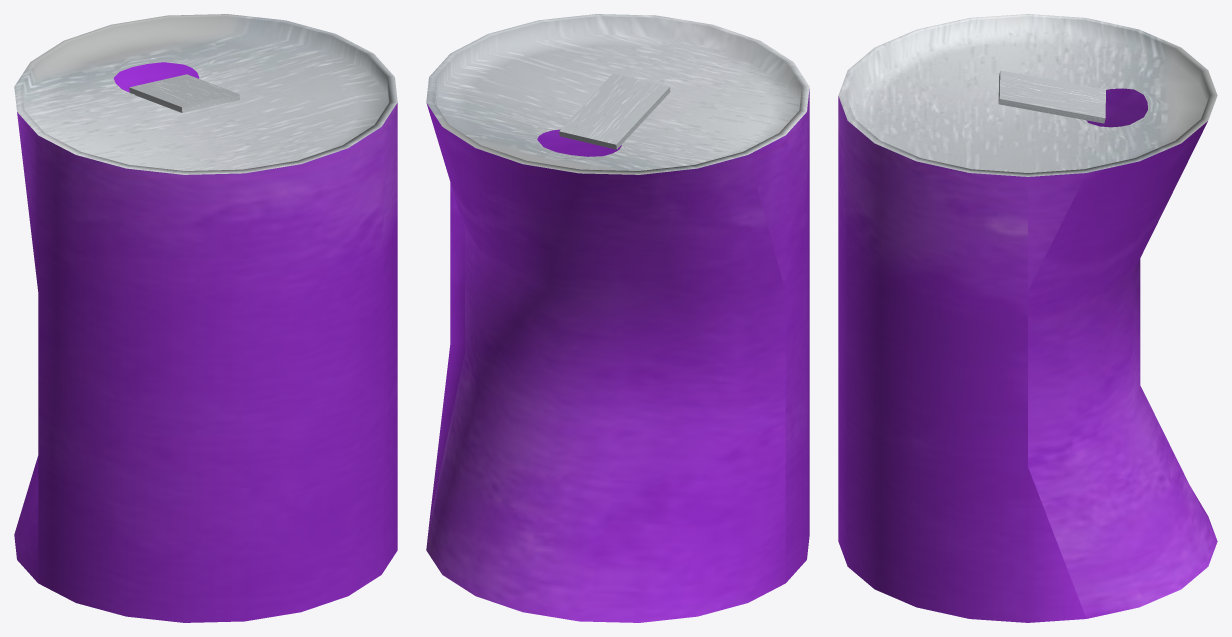
File: Can.fbx
3 renders of one model, left to right at view 1: azimuth 30°, elevation 25°; view 2: azimuth 150°, elevation 25°; view 3: azimuth 270°, elevation 25°, orthographic.
Visible parts, largest first — view 1: pCylinder1, pCube1; view 2: pCylinder1, pCube1; view 3: pCylinder1, pCube1.
Boxes of the visible parts, x1,y1,x2,y2 form: pCylinder1: (14,14,397,622); pCube1: (129,74,239,112); pCylinder1: (426,14,809,622); pCube1: (559,73,670,149); pCylinder1: (838,14,1217,622); pCube1: (998,70,1105,123).
Size of the model in its own units: 0.5063 by 0.6608 by 0.4978.
